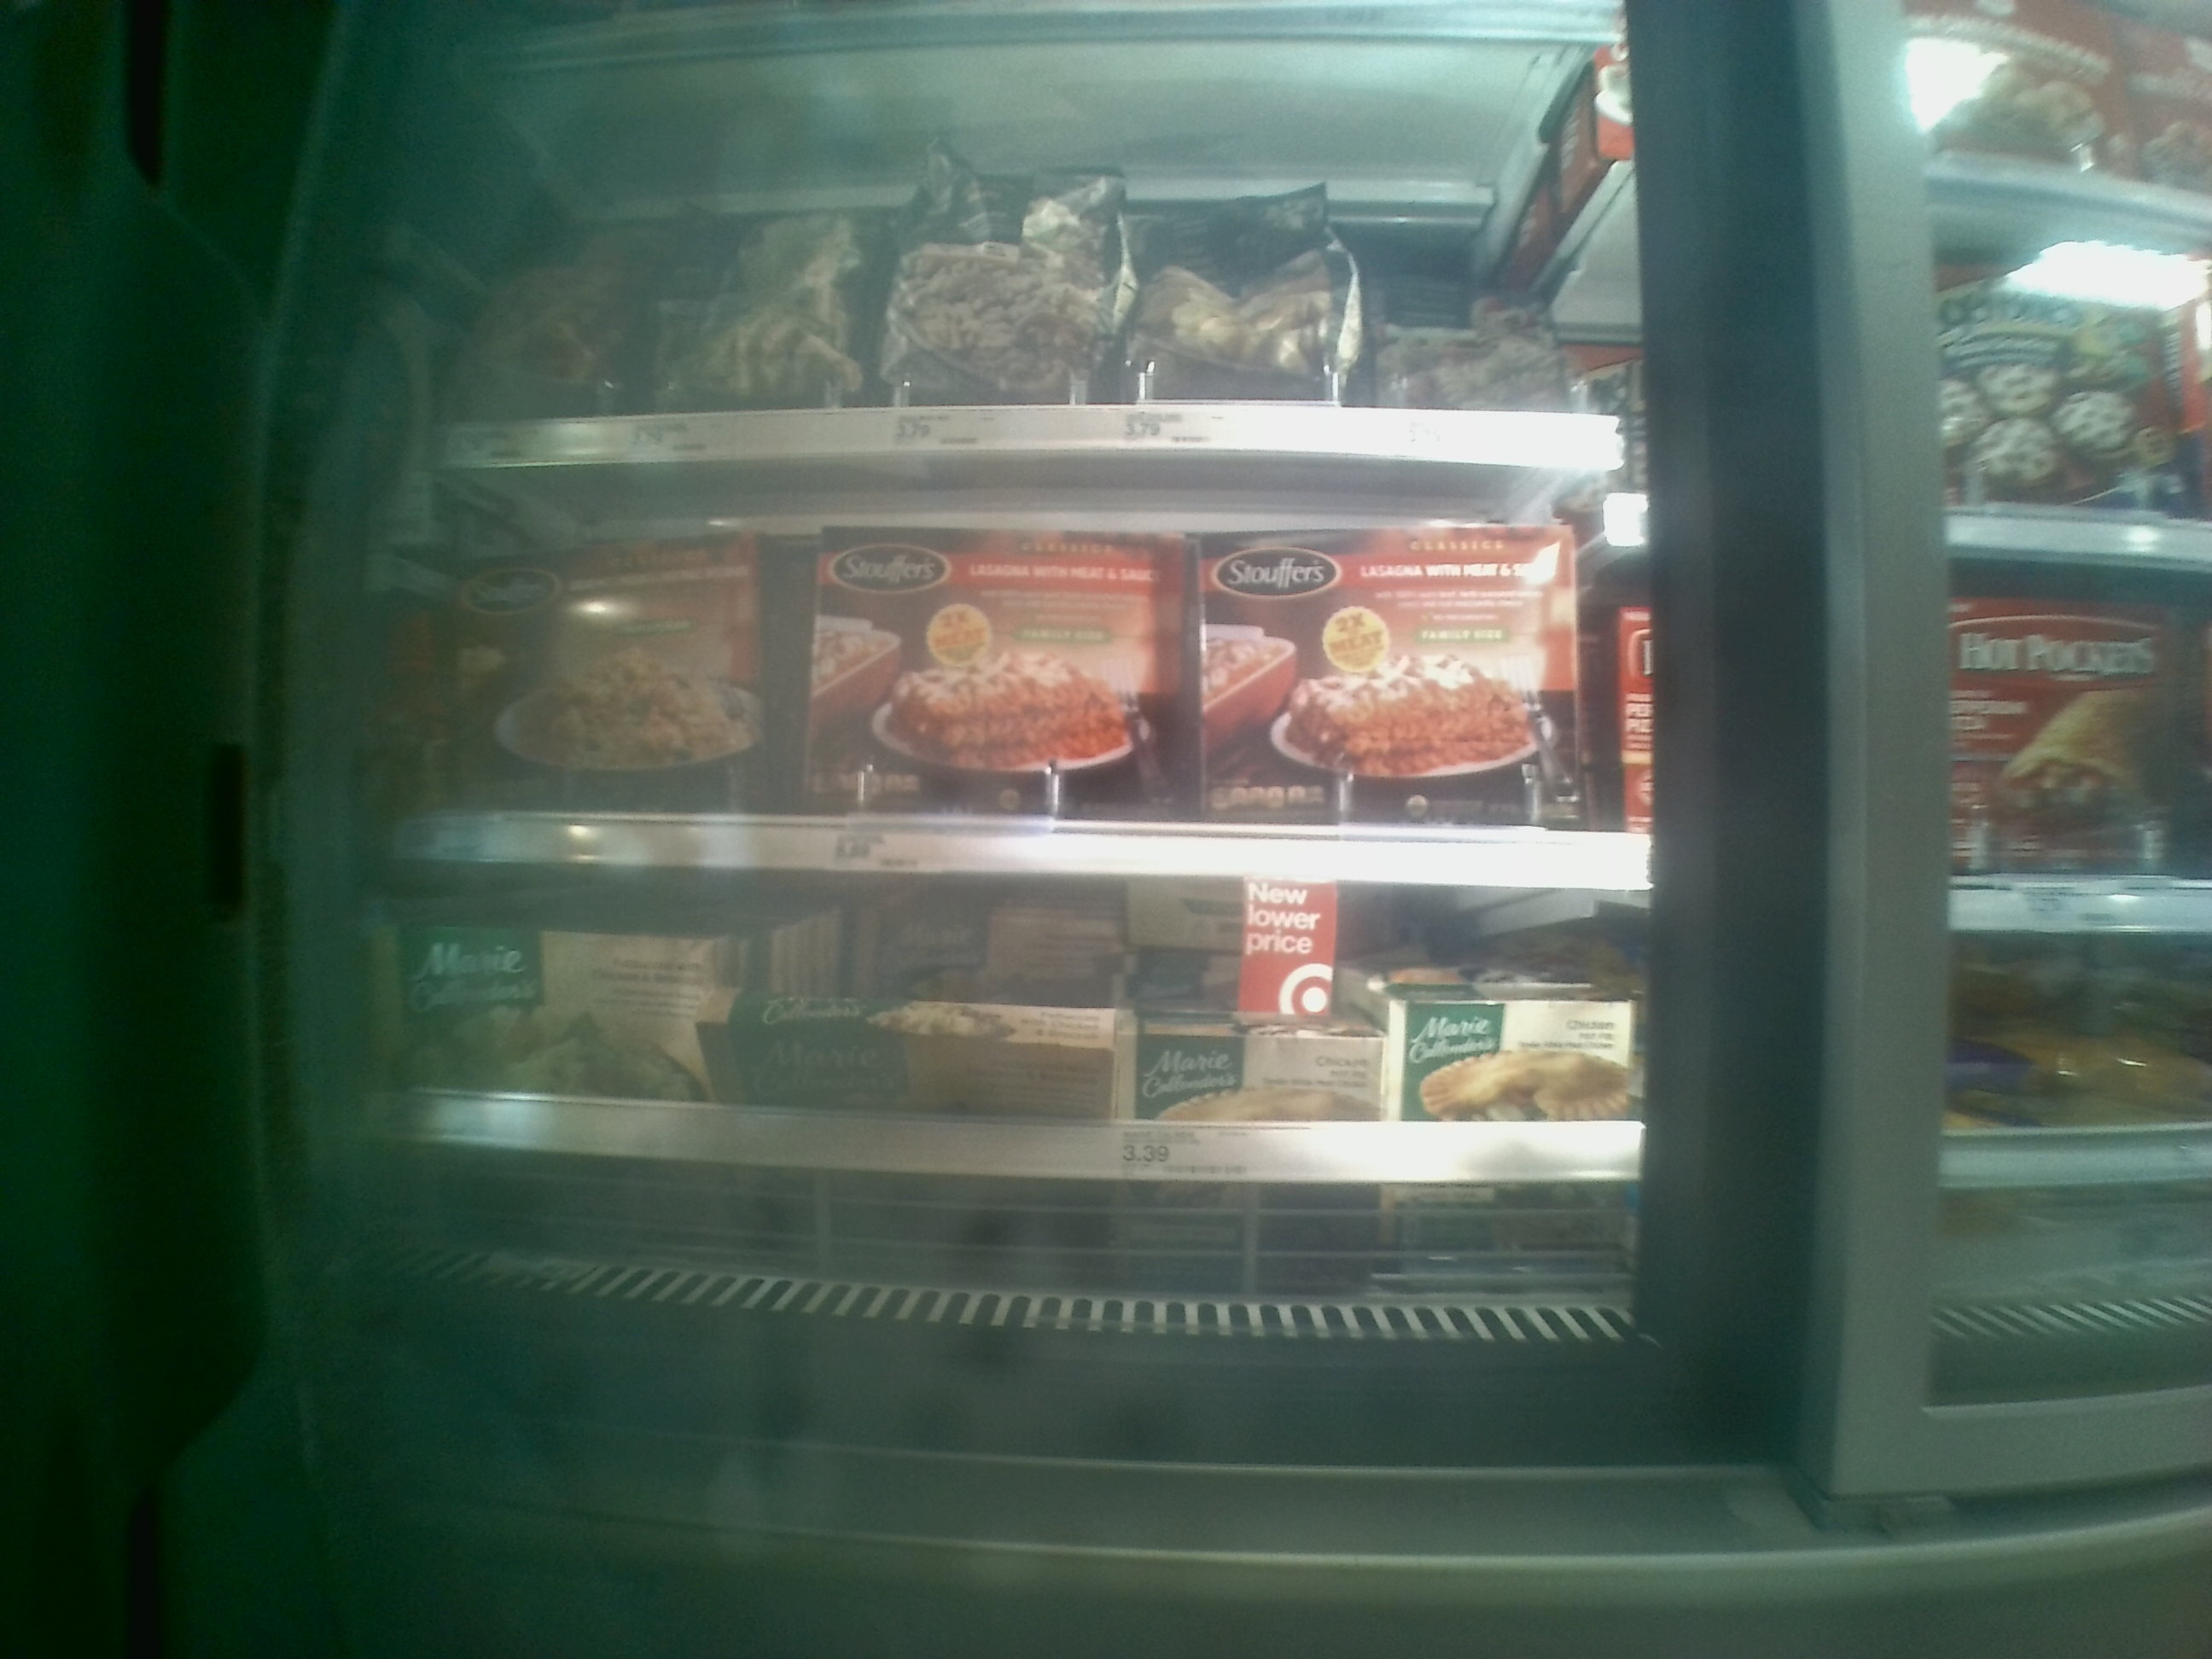shelf: (425, 870, 1662, 1349), (427, 448, 1663, 884)
